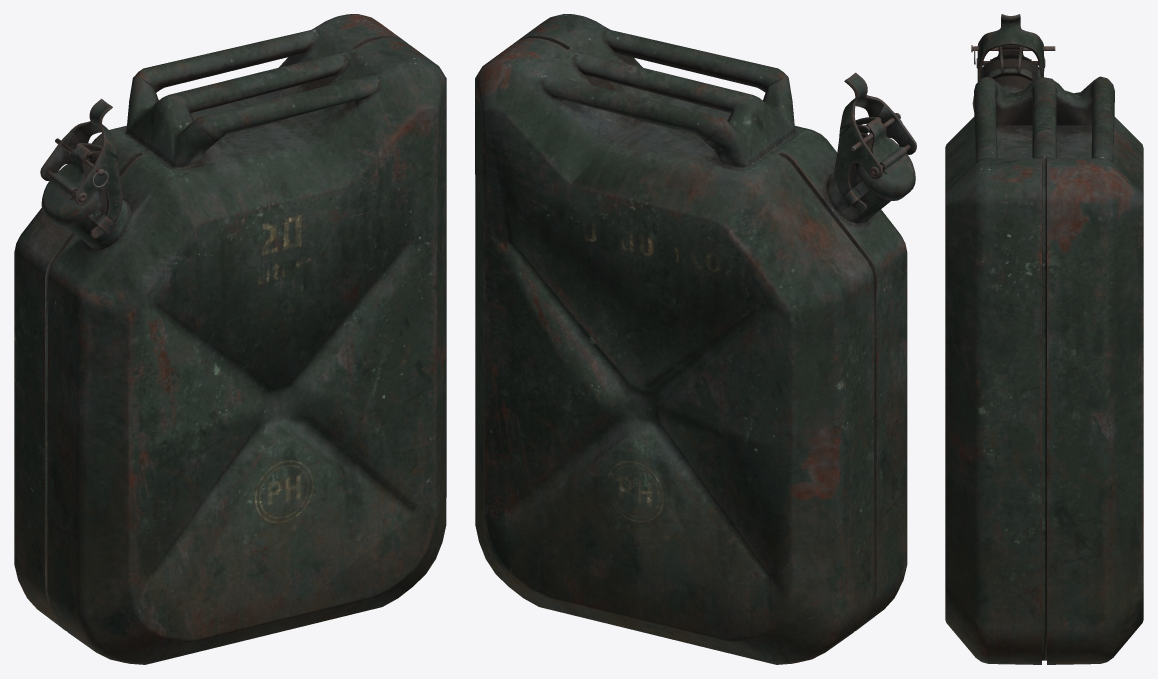
The model's file is metal_jerrycan_green.glb.
The picture shows the model from 3 angles, left to right: view 1: azimuth 30°, elevation 25°; view 2: azimuth 150°, elevation 25°; view 3: azimuth 270°, elevation 25°; orthographic projection. The views are drawn at different scales.
Parts seen in each view (by area): view 1: metal_jerrycan_green_body, metal_jerrycan_green_latch, metal_jerrycan_green_cap; view 2: metal_jerrycan_green_body, metal_jerrycan_green_latch, metal_jerrycan_green_cap; view 3: metal_jerrycan_green_body, metal_jerrycan_green_latch, metal_jerrycan_green_cap, metal_jerrycan_green_fastener.
Part boxes in pixels (x1,y1,x2,y2): metal_jerrycan_green_body: [14, 14, 446, 664]; metal_jerrycan_green_latch: [40, 98, 122, 238]; metal_jerrycan_green_cap: [41, 144, 101, 227]; metal_jerrycan_green_body: [475, 14, 907, 664]; metal_jerrycan_green_latch: [834, 72, 916, 212]; metal_jerrycan_green_cap: [855, 118, 915, 200]; metal_jerrycan_green_body: [945, 75, 1143, 664]; metal_jerrycan_green_latch: [976, 14, 1045, 81]; metal_jerrycan_green_cap: [981, 45, 1040, 79]; metal_jerrycan_green_fastener: [989, 46, 1032, 81].
Bounding box in the file's own units: 0.3604 × 0.4999 × 0.1709.
1 material, 1 textured.
